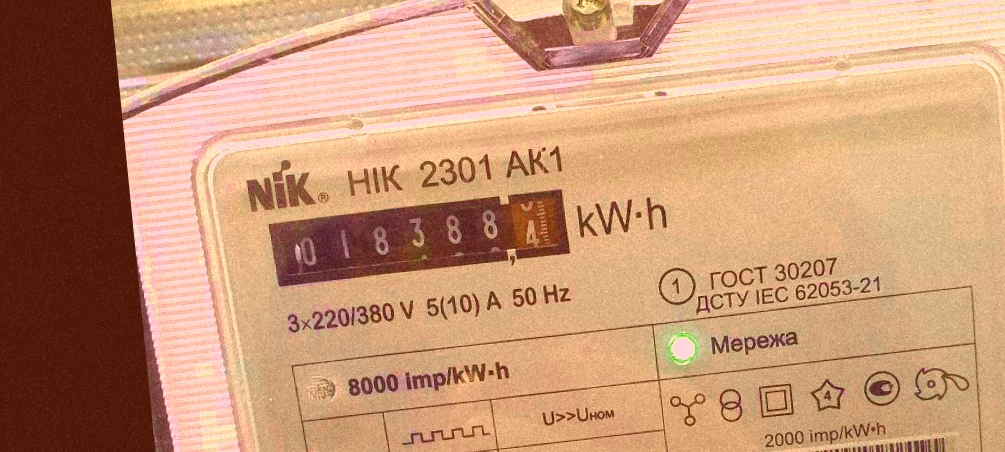0: (296, 232, 319, 270)
1: (333, 223, 355, 262)
3: (406, 214, 429, 251)
4: (519, 215, 542, 249)
8: (368, 220, 392, 258), (477, 205, 501, 243), (441, 211, 465, 248)
screen: (258, 178, 584, 299)
